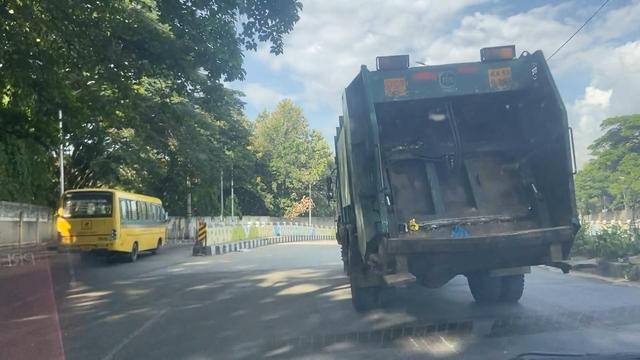HMV: (337, 52, 564, 303), (57, 191, 170, 257)
RoadDamages: (93, 291, 167, 360), (389, 315, 462, 359), (0, 272, 79, 307)
